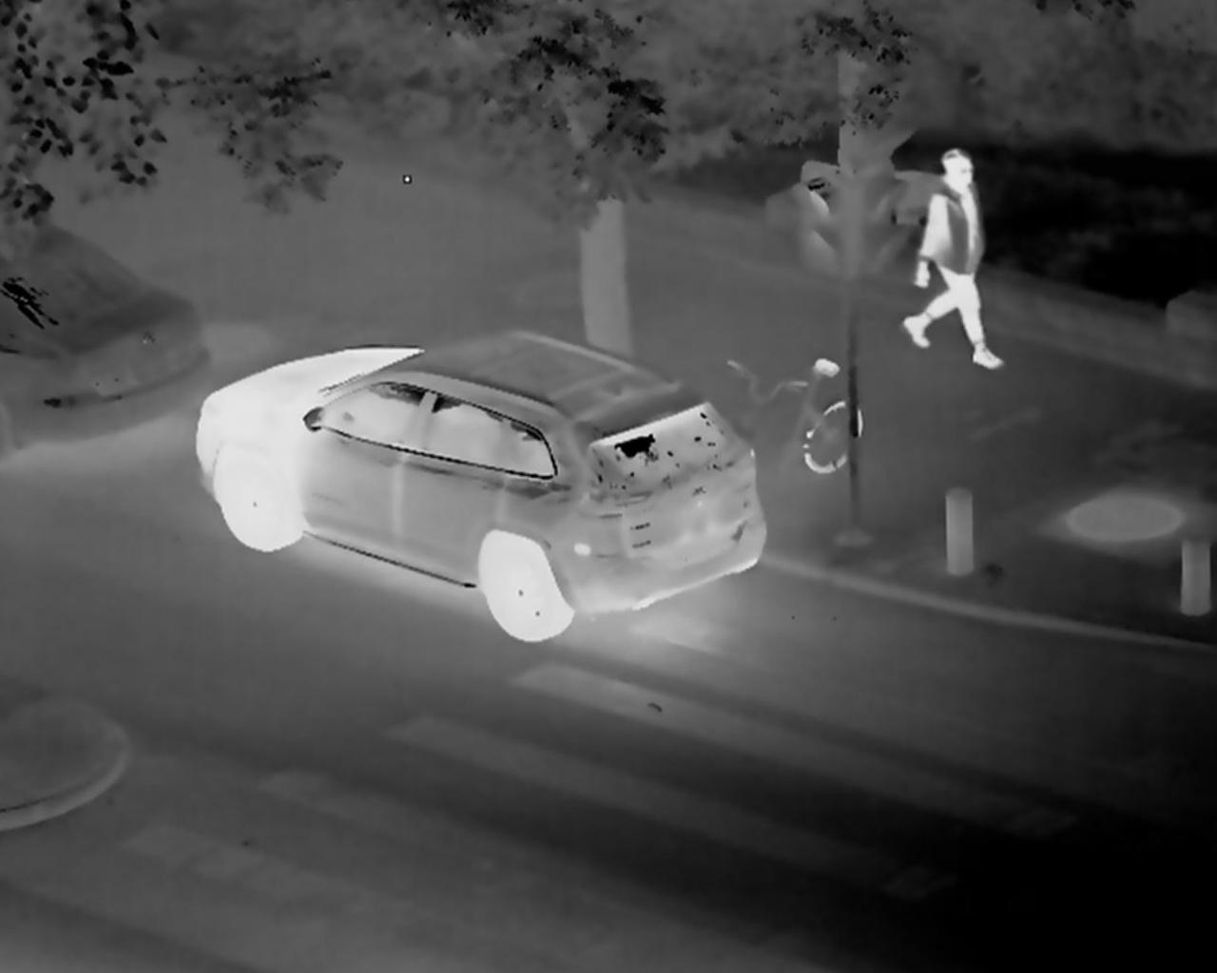person: (904, 149, 1007, 376)
